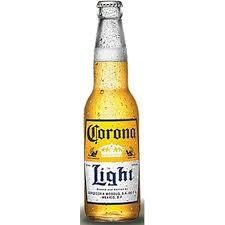Glass bottle: (64, 1, 169, 225)
